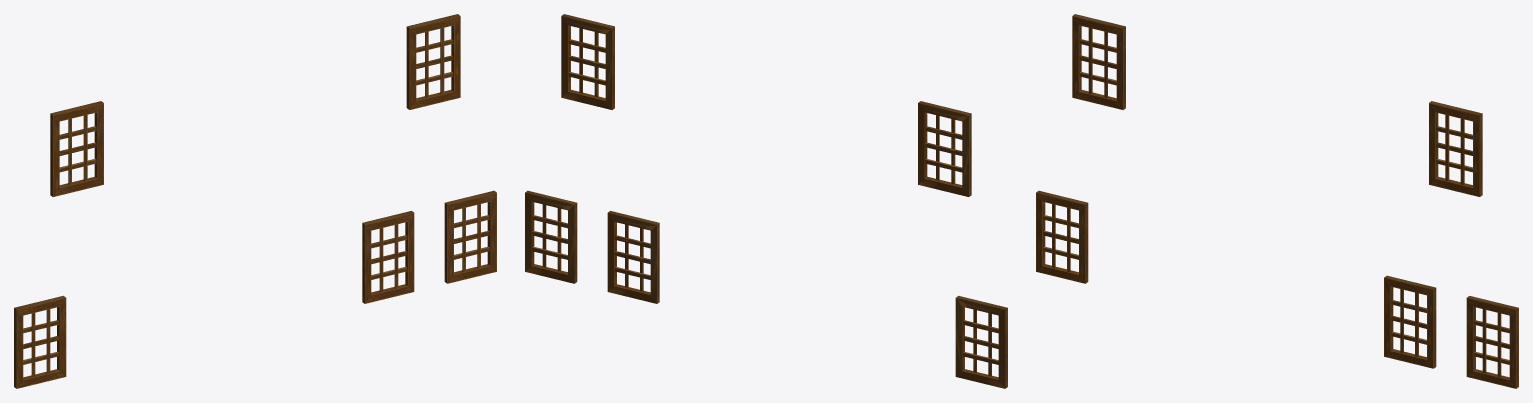
The picture shows the model from 3 angles, left to right: view 1: azimuth 30°, elevation 25°; view 2: azimuth 150°, elevation 25°; view 3: azimuth 330°, elevation 25°; orthographic projection.
Visible parts, largest first — view 1: 4x6.015; view 2: 4x6.015; view 3: 4x6.015.
Boxes of the visible parts, x1,y1,x2,y2 form: 4x6.015: (14,14,496,388); 4x6.015: (525,14,1007,388); 4x6.015: (1036,14,1518,388).
Bounding box in the file's own units: 1088 × 573 × 11.19.
1 material, 1 textured.
